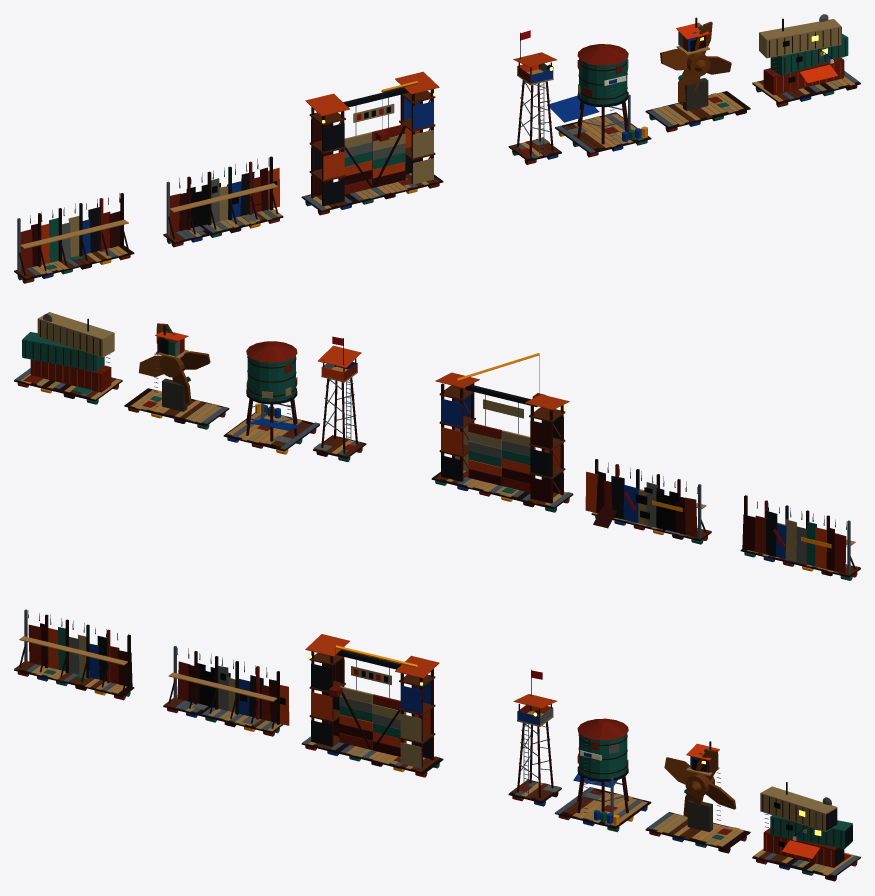
The model's file is tb_atoll_kit.three-web-toon.glb.
3 renders of one model, top to bottom at view 1: azimuth 30°, elevation 25°; view 2: azimuth 150°, elevation 25°; view 3: azimuth 330°, elevation 25°, orthographic.
Parts seen in each view (by area): view 1: atoll_gate, container_home, water_tank, atoll_wall_burnt, atoll_wall, propeller, watchtower; view 2: atoll_gate, container_home, water_tank, atoll_wall_burnt, atoll_wall, propeller, watchtower; view 3: atoll_gate, container_home, atoll_wall_burnt, atoll_wall, water_tank, propeller, watchtower.
Part boxes in pixels (x1=…): atoll_gate: x1=301, y1=71, x2=443, y2=215; container_home: x1=752, y1=14, x2=860, y2=107; water_tank: x1=547, y1=44, x2=651, y2=157; atoll_wall_burnt: x1=163, y1=156, x2=283, y2=247; atoll_wall: x1=14, y1=193, x2=134, y2=283; propeller: x1=645, y1=17, x2=750, y2=132; watchtower: x1=508, y1=30, x2=561, y2=164; atoll_gate: x1=431, y1=353, x2=573, y2=512; container_home: x1=14, y1=312, x2=122, y2=404; water_tank: x1=223, y1=341, x2=319, y2=454; atoll_wall_burnt: x1=585, y1=459, x2=711, y2=544; atoll_wall: x1=740, y1=495, x2=860, y2=580; propeller: x1=124, y1=323, x2=229, y2=429; watchtower: x1=313, y1=336, x2=366, y2=461; atoll_gate: x1=301, y1=634, x2=443, y2=777; container_home: x1=752, y1=782, x2=860, y2=881; atoll_wall_burnt: x1=163, y1=646, x2=289, y2=736; atoll_wall: x1=14, y1=609, x2=134, y2=700; water_tank: x1=555, y1=718, x2=651, y2=832; propeller: x1=645, y1=741, x2=750, y2=853; watchtower: x1=508, y1=669, x2=561, y2=806.
Bounding box in the file's own units: 122 × 17.88 × 12.16.
